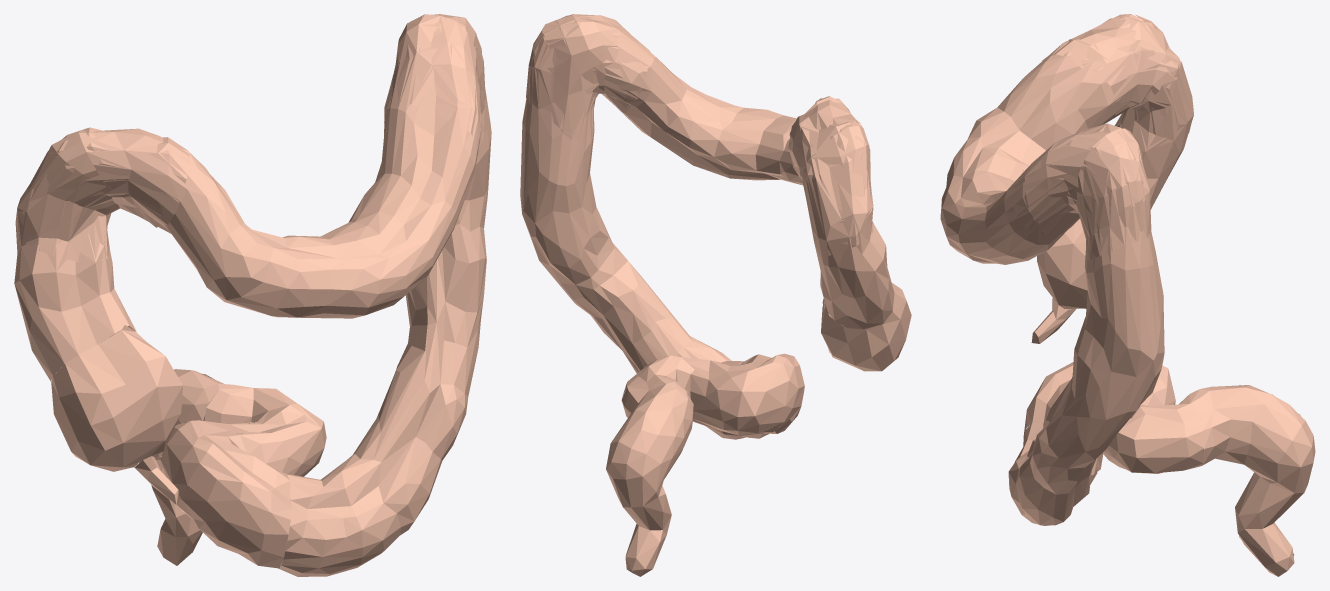
The model's file is SBU_F_Intestine_Large_0.2.glb.
The picture shows the model from 3 angles, left to right: view 1: azimuth 30°, elevation 25°; view 2: azimuth 150°, elevation 25°; view 3: azimuth 270°, elevation 25°; orthographic projection. The views are drawn at different scales.
Parts seen in each view (by area): view 1: VH_F_transverse_colon, VH_F_descending_colon, VH_F_sigmoid_colon, VH_F_ascending_colon, VH_F_caecum, VH_F_hepatic_flexure_of_colon, VH_F_rectum, VH_F_splenic_flexure_of_colon, VH_F_vermiform_appendix; view 2: VH_F_descending_colon, VH_F_transverse_colon, VH_F_ascending_colon, VH_F_rectum, VH_F_sigmoid_colon, VH_F_caecum, VH_F_splenic_flexure_of_colon, VH_F_hepatic_flexure_of_colon; view 3: VH_F_descending_colon, VH_F_transverse_colon, VH_F_rectum, VH_F_sigmoid_colon, VH_F_splenic_flexure_of_colon, VH_F_ascending_colon, VH_F_hepatic_flexure_of_colon, VH_F_caecum, VH_F_vermiform_appendix.
Part boxes in pixels (x1,y1,x2,y2): VH_F_transverse_colon: (79, 14, 481, 318); VH_F_descending_colon: (278, 14, 491, 576); VH_F_sigmoid_colon: (160, 385, 326, 568); VH_F_ascending_colon: (14, 131, 136, 381); VH_F_caecum: (51, 325, 182, 471); VH_F_hepatic_flexure_of_colon: (17, 127, 189, 261); VH_F_rectum: (151, 369, 233, 565); VH_F_splenic_flexure_of_colon: (384, 14, 490, 155); VH_F_vermiform_appendix: (134, 456, 178, 504); VH_F_descending_colon: (520, 15, 745, 439); VH_F_transverse_colon: (571, 14, 862, 185); VH_F_ascending_colon: (801, 126, 894, 329); VH_F_rectum: (606, 379, 693, 576); VH_F_sigmoid_colon: (622, 353, 804, 438); VH_F_caecum: (821, 283, 911, 371); VH_F_splenic_flexure_of_colon: (526, 15, 650, 143); VH_F_hepatic_flexure_of_colon: (789, 96, 873, 255); VH_F_descending_colon: (1008, 128, 1164, 525); VH_F_transverse_colon: (940, 14, 1166, 264); VH_F_rectum: (1199, 385, 1315, 576); VH_F_sigmoid_colon: (1023, 362, 1204, 473); VH_F_splenic_flexure_of_colon: (1012, 125, 1151, 262); VH_F_ascending_colon: (1116, 14, 1193, 209); VH_F_hepatic_flexure_of_colon: (1042, 16, 1191, 150); VH_F_caecum: (1037, 219, 1087, 308); VH_F_vermiform_appendix: (1031, 298, 1076, 343).
Bounding box in the file's own units: 0.2437 × 0.2949 × 0.1935.
